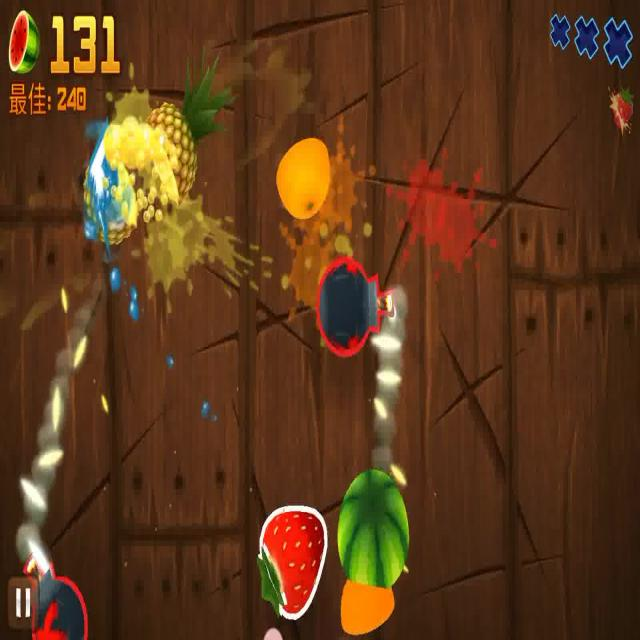bomb: (314, 260, 399, 362), (37, 549, 92, 640)
fruit: (140, 45, 228, 207), (336, 464, 424, 586), (249, 493, 323, 618), (266, 123, 332, 224), (78, 140, 137, 245), (341, 575, 399, 634)
